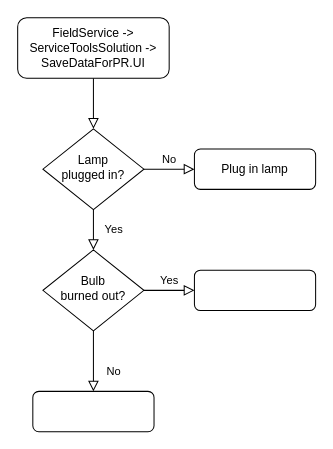
This 333x449 diagram has some shape labels left out. The box of each missing label's shape, as (x1, y1, x2, y2) in pixels:
Repair Lamp: (32, 390, 154, 432)
Replace Bulb: (193, 269, 316, 311)
